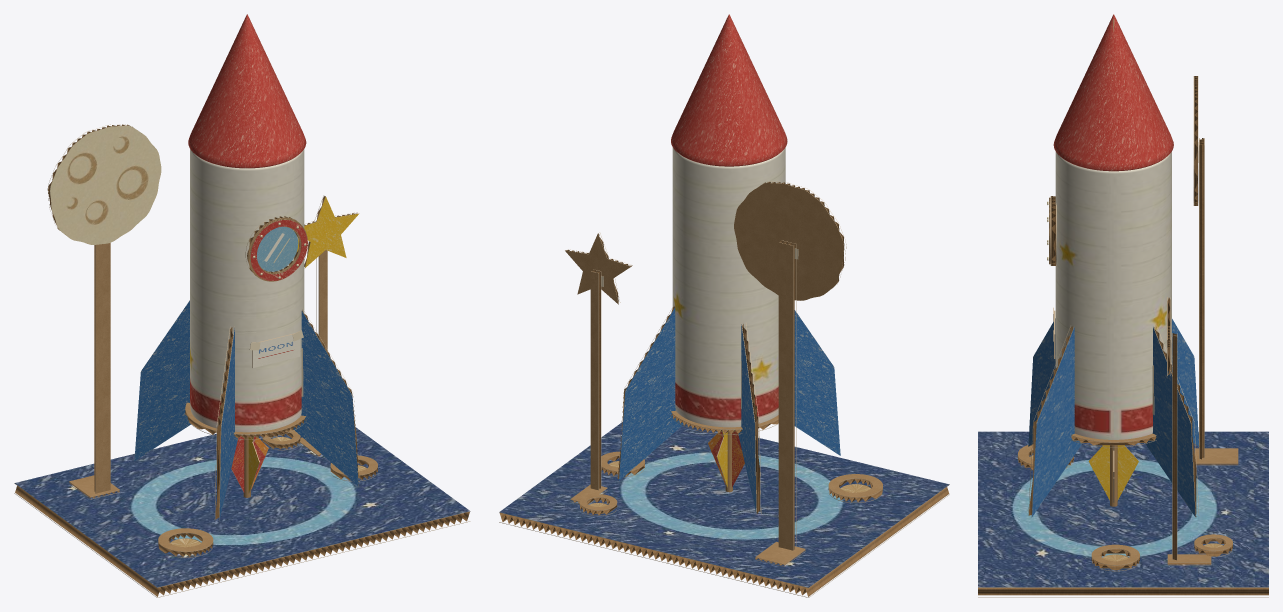
Rendered from 06_starbound_rocket.glb.
3 renders of one model, left to right at view 1: azimuth 30°, elevation 25°; view 2: azimuth 150°, elevation 25°; view 3: azimuth 270°, elevation 25°, orthographic. The views are drawn at different scales.
Visible parts, largest first — view 1: artwork_06_starbound_rocket, blue, red, kraft, flute, edge, yellow; view 2: artwork_06_starbound_rocket, kraft, blue, red, flute, edge, orange; view 3: artwork_06_starbound_rocket, blue, red, flute, edge, kraft, yellow.
Part boxes in pixels (left/top/right/bottom): artwork_06_starbound_rocket: left=15, top=126, right=470, bottom=587; blue: left=134, top=300, right=358, bottom=519; red: left=188, top=14, right=307, bottom=492; kraft: left=69, top=218, right=377, bottom=551; flute: left=15, top=124, right=469, bottom=596; edge: left=14, top=124, right=470, bottom=597; yellow: left=248, top=196, right=358, bottom=492; artwork_06_starbound_rocket: left=499, top=147, right=949, bottom=587; kraft: left=565, top=183, right=882, bottom=564; blue: left=619, top=307, right=840, bottom=514; red: left=671, top=14, right=787, bottom=486; flute: left=499, top=182, right=949, bottom=596; edge: left=499, top=181, right=949, bottom=597; orange: left=708, top=431, right=744, bottom=484; artwork_06_starbound_rocket: left=978, top=151, right=1268, bottom=587; blue: left=1028, top=318, right=1199, bottom=516; red: left=1053, top=14, right=1173, bottom=171; flute: left=978, top=76, right=1268, bottom=595; edge: left=978, top=76, right=1268, bottom=597; kraft: left=1018, top=433, right=1238, bottom=565; yellow: left=1088, top=445, right=1138, bottom=500.
Bounding box in the file's own units: 0.3815 × 0.576 × 0.3.
Materials: 12 (10 with a texture image).
